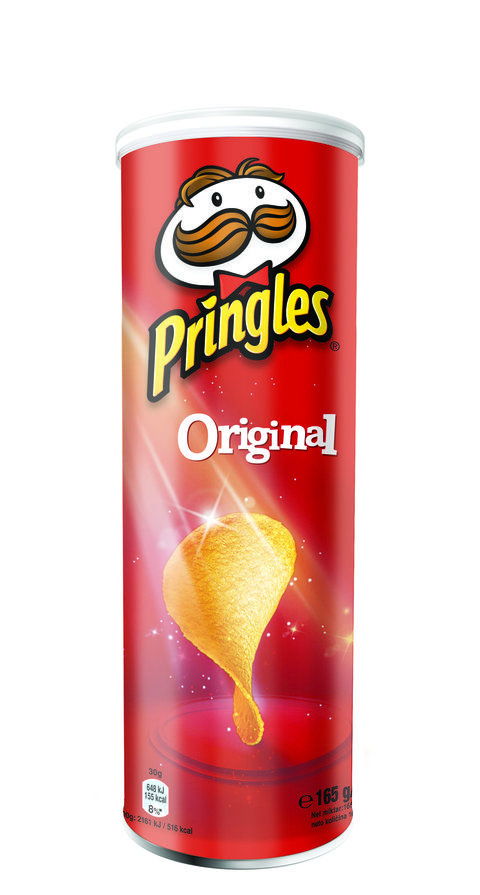pringle: (94, 102, 383, 879)
